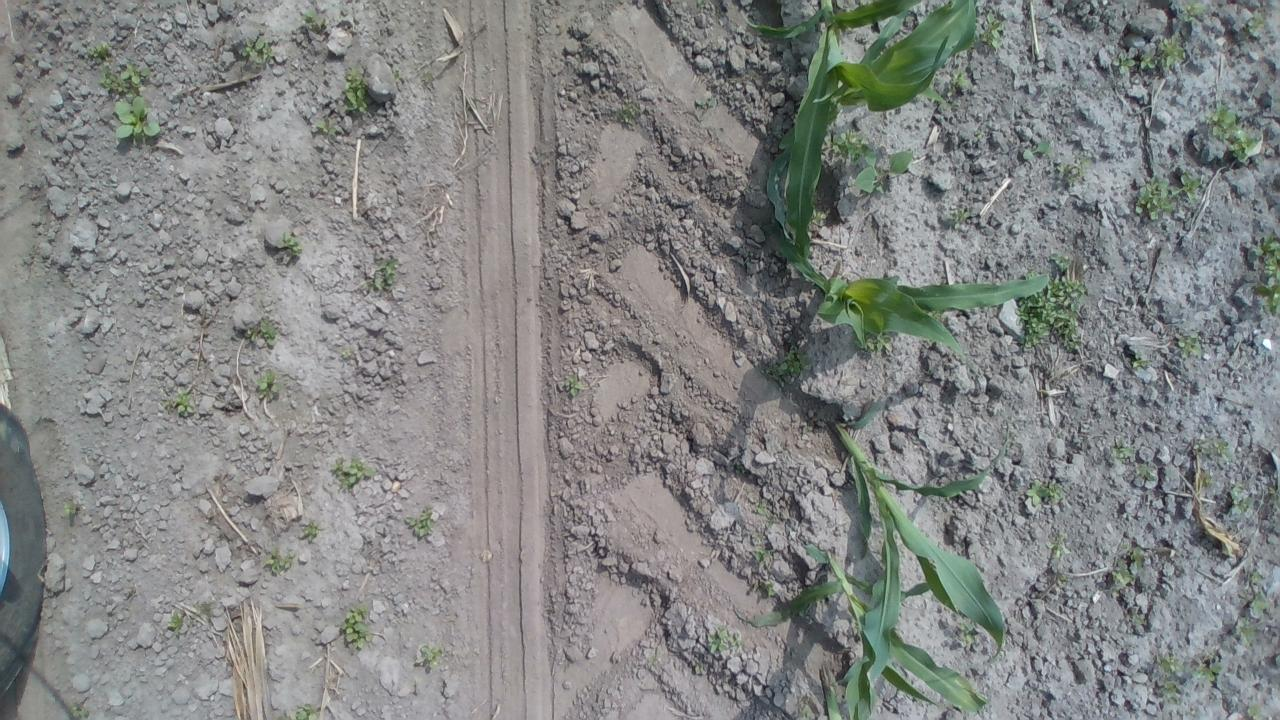Maize: (741, 0, 980, 259), (828, 395, 1014, 720), (734, 538, 989, 720), (760, 212, 1052, 369), (819, 665, 844, 720)
Weeds: (823, 128, 914, 196), (1016, 272, 1088, 354), (101, 59, 163, 144), (1200, 102, 1259, 165), (1134, 172, 1201, 224), (1111, 29, 1186, 72), (1247, 226, 1280, 318), (758, 344, 810, 380), (1153, 652, 1185, 705), (328, 456, 374, 492), (343, 63, 373, 114), (705, 621, 746, 655), (1188, 646, 1222, 686), (342, 603, 369, 652), (1026, 478, 1070, 508), (978, 7, 1008, 50), (1103, 558, 1135, 598), (361, 260, 400, 290), (162, 385, 195, 417), (244, 316, 278, 347), (241, 33, 274, 64), (403, 505, 434, 537), (1235, 614, 1264, 648), (263, 546, 295, 576), (255, 366, 282, 400), (1192, 436, 1230, 460), (1057, 158, 1090, 185), (854, 331, 894, 352), (943, 206, 977, 229), (1118, 541, 1144, 571), (1248, 588, 1274, 618), (948, 63, 970, 96), (1046, 528, 1070, 558), (955, 618, 978, 647), (754, 498, 776, 528), (415, 644, 440, 670), (278, 231, 304, 256), (1230, 480, 1249, 514), (300, 5, 326, 29), (1048, 248, 1074, 272), (562, 372, 586, 398), (1180, 0, 1208, 22), (1246, 10, 1266, 40), (751, 538, 772, 565), (1022, 142, 1050, 162), (620, 99, 640, 126), (750, 578, 777, 598), (1178, 336, 1202, 358), (85, 38, 112, 57), (1111, 446, 1137, 465), (294, 702, 320, 720), (300, 519, 320, 542), (808, 206, 828, 226), (1136, 463, 1156, 482), (166, 613, 184, 634), (68, 703, 90, 720), (316, 119, 337, 136), (695, 94, 718, 109), (1127, 606, 1145, 624), (1199, 470, 1217, 488), (807, 630, 827, 646), (63, 496, 74, 522), (1132, 352, 1148, 368), (1054, 574, 1068, 592), (1246, 570, 1264, 584), (800, 419, 815, 434), (1248, 704, 1262, 720), (1267, 485, 1280, 502), (694, 660, 704, 676), (420, 70, 433, 82), (974, 128, 986, 140), (392, 68, 401, 81), (342, 348, 352, 357), (1273, 654, 1280, 666), (696, 0, 706, 8)
